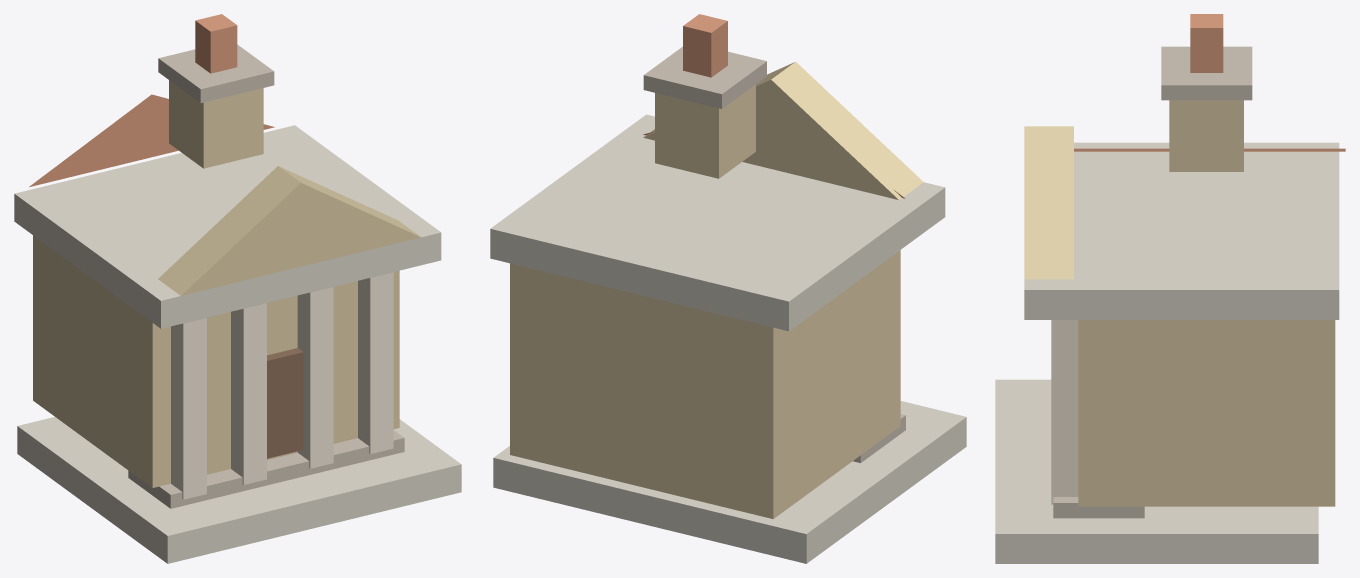
The model's file is town_hall.glb.
The picture shows the model from 3 angles, left to right: view 1: azimuth 30°, elevation 25°; view 2: azimuth 150°, elevation 25°; view 3: azimuth 270°, elevation 25°; orthographic projection. The views are drawn at different scales.
Parts seen in each view (by area): view 1: town_hall; view 2: town_hall; view 3: town_hall.
Boxes of the visible parts, bbox=[...] form: town_hall: bbox=[14, 14, 461, 563]; town_hall: bbox=[490, 14, 966, 563]; town_hall: bbox=[995, 14, 1345, 563].
Bounding box in the file's own units: 0.88 × 1.24 × 0.845.
